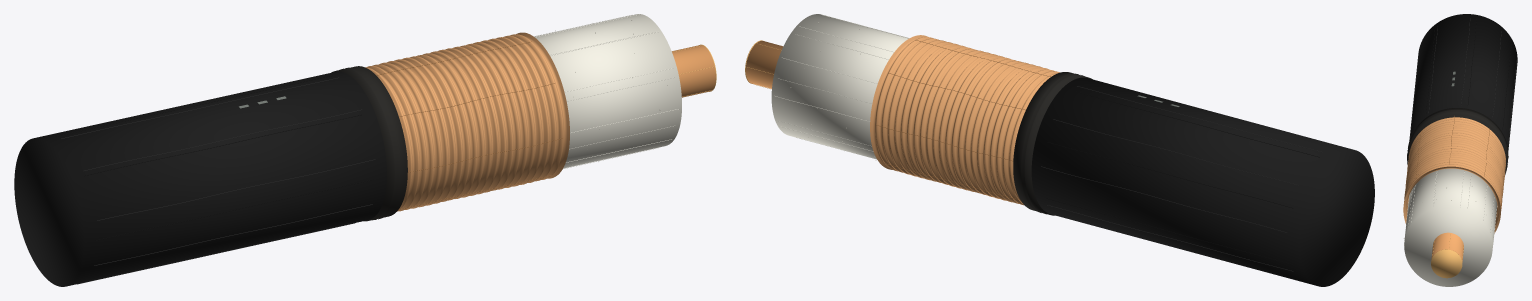
The model's file is rf-ldf15-macro.glb.
3 renders of one model, left to right at view 1: azimuth 30°, elevation 25°; view 2: azimuth 150°, elevation 25°; view 3: azimuth 270°, elevation 25°, orthographic. The views are drawn at different scales.
Visible parts, largest first — view 1: macro hardline jacket body, annular corrugated solid shield, macro foam dielectric exposed core, hardline jacket cut wall, polished solid center conductor, rounded jacket cut lip; view 2: macro hardline jacket body, annular corrugated solid shield, macro foam dielectric exposed core, hardline jacket cut wall, polished solid center conductor, rounded jacket cut lip; view 3: macro hardline jacket body, macro foam dielectric exposed core, annular corrugated solid shield, hardline jacket cut wall, polished conductor cut face glow, polished solid center conductor, rounded jacket cut lip, jacket axial surface line 01, jacket axial surface line 02.
Boxes of the visible parts, x1,y1,x2,y2 form: macro hardline jacket body: [14, 71, 386, 286]; annular corrugated solid shield: [365, 32, 569, 211]; macro foam dielectric exposed core: [534, 14, 681, 168]; hardline jacket cut wall: [331, 66, 407, 221]; polished solid center conductor: [672, 45, 715, 97]; rounded jacket cut lip: [340, 67, 398, 220]; macro hardline jacket body: [1031, 77, 1374, 286]; annular corrugated solid shield: [870, 35, 1059, 205]; macro foam dielectric exposed core: [771, 14, 908, 159]; hardline jacket cut wall: [1013, 72, 1092, 215]; polished solid center conductor: [745, 40, 783, 88]; rounded jacket cut lip: [1021, 73, 1084, 214]; macro hardline jacket body: [1409, 14, 1517, 149]; macro foam dielectric exposed core: [1404, 168, 1497, 286]; annular corrugated solid shield: [1403, 117, 1505, 233]; hardline jacket cut wall: [1407, 108, 1508, 174]; polished conductor cut face glow: [1431, 249, 1462, 278]; polished solid center conductor: [1431, 232, 1463, 262]; rounded jacket cut lip: [1407, 110, 1508, 166]; jacket axial surface line 01: [1508, 59, 1517, 145]; jacket axial surface line 02: [1492, 31, 1501, 117].
Bounding box in the file's own units: 11.63 × 2.42 × 2.73.
